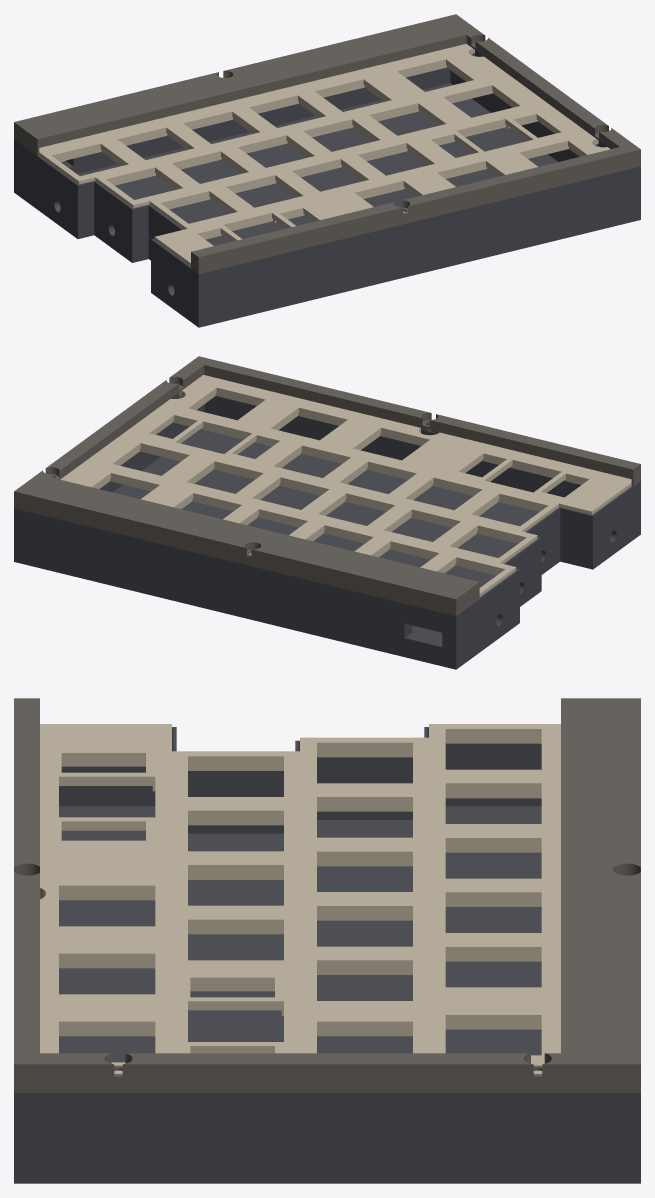
Rendered from gemini_right_case.glb.
The picture shows the model from 3 angles, top to bottom: view 1: azimuth 30°, elevation 25°; view 2: azimuth 150°, elevation 25°; view 3: azimuth 270°, elevation 25°; orthographic projection. The views are drawn at different scales.
Parts seen in each view (by area): view 1: bottom, plate, top; view 2: bottom, plate, top; view 3: plate, bottom, top.
Part boxes in pixels (box(x1,y1,x2,y2)): bottom: box(14, 50, 640, 327); plate: box(39, 44, 610, 266); top: box(14, 14, 640, 273); bottom: box(14, 393, 640, 669); plate: box(60, 375, 631, 596); top: box(14, 356, 640, 615); plate: box(40, 724, 560, 1073); bottom: box(14, 727, 640, 1183); top: box(14, 698, 640, 1092).
Bounding box in the file's own units: 128 × 19.5 × 92.7.
